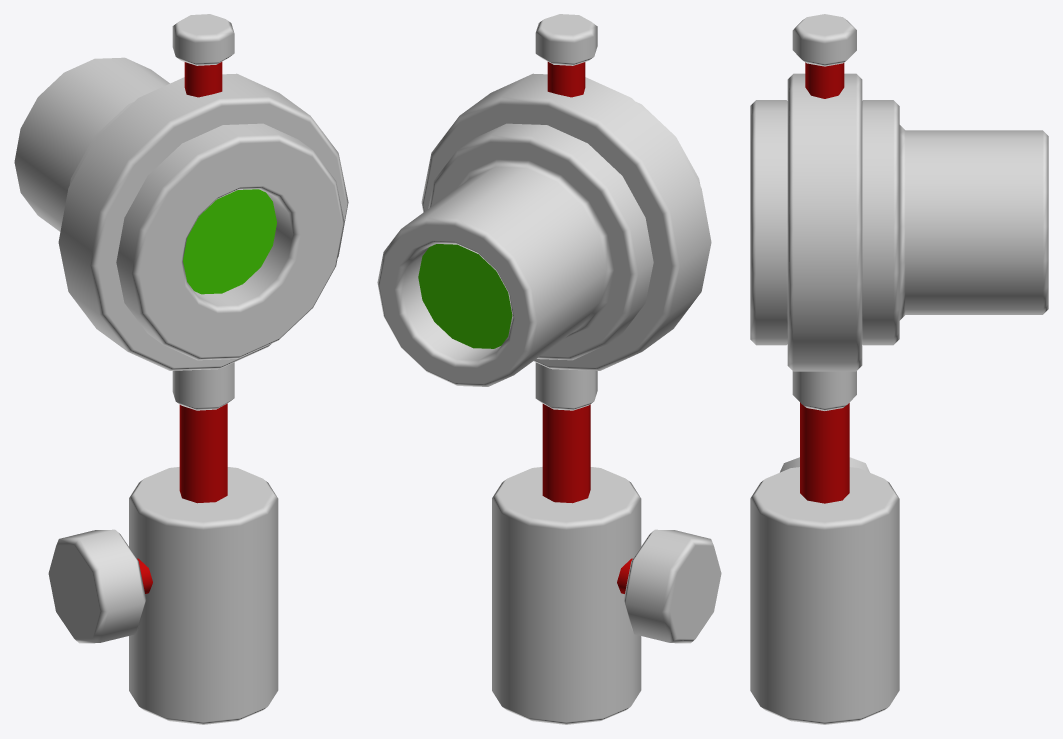
File: Optic01d.fbx
The picture shows the model from 3 angles, left to right: view 1: azimuth 30°, elevation 25°; view 2: azimuth 150°, elevation 25°; view 3: azimuth 270°, elevation 25°; orthographic projection.
Parts seen in each view (by area): view 1: Optic01d; view 2: Optic01d; view 3: Optic01d.
Part boxes in pixels (x1,y1,x2,y2): Optic01d: (14,14,348,724); Optic01d: (377,14,721,724); Optic01d: (750,14,1048,724).
Bounding box in the file's own units: 5 × 5 × 12.41.
